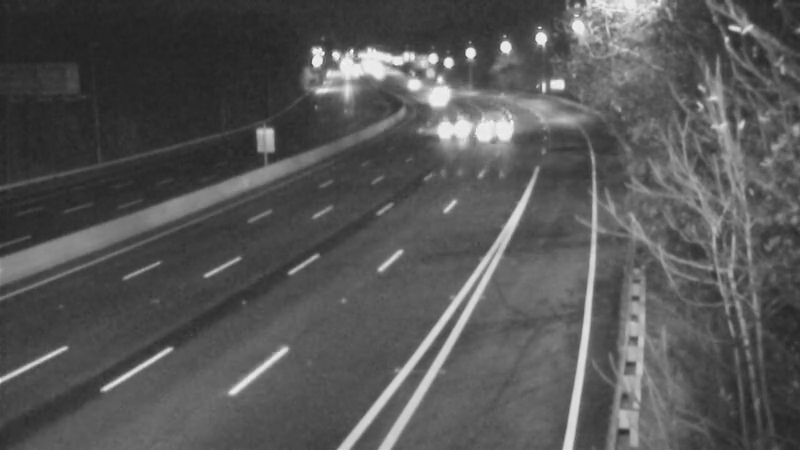vehicle: (385, 61, 435, 111), (410, 76, 460, 126), (422, 94, 472, 144), (471, 105, 521, 155)
